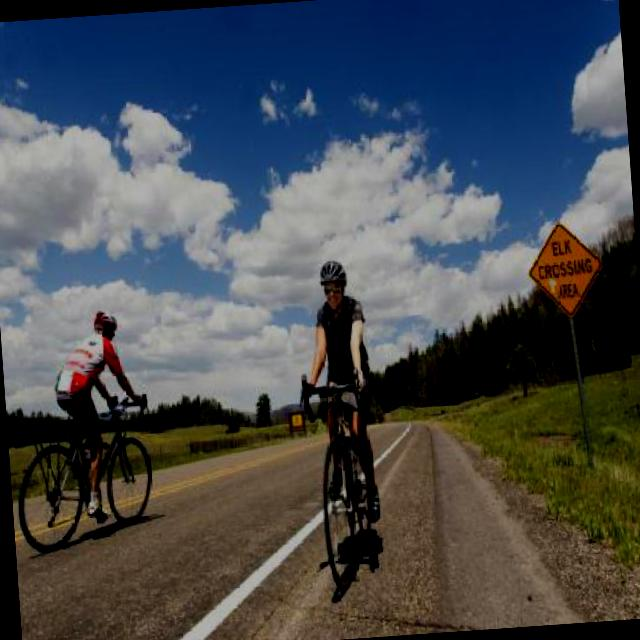Person: (46, 302, 154, 522), (301, 270, 383, 544)
